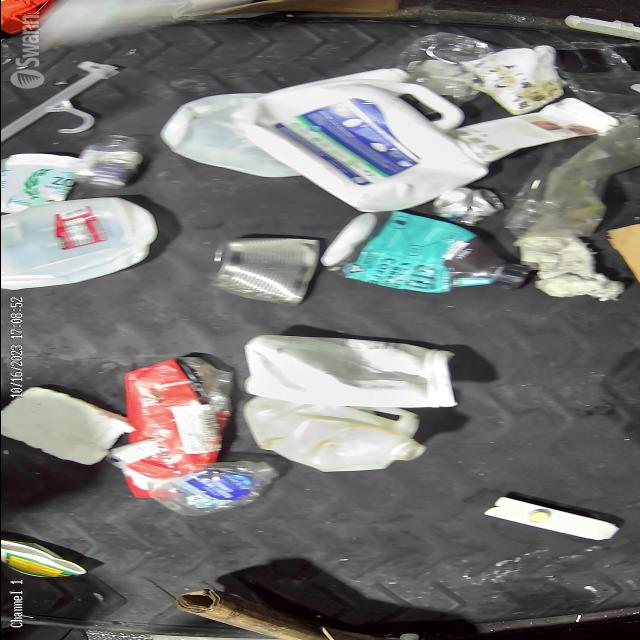can: (208, 237, 318, 303)
milk_jug: (238, 78, 486, 208), (242, 334, 452, 408), (0, 196, 156, 290), (243, 402, 431, 472), (159, 92, 289, 178)
non_white_jug: (322, 210, 525, 291), (119, 356, 215, 495)
plastic_bottle: (148, 464, 258, 518)
